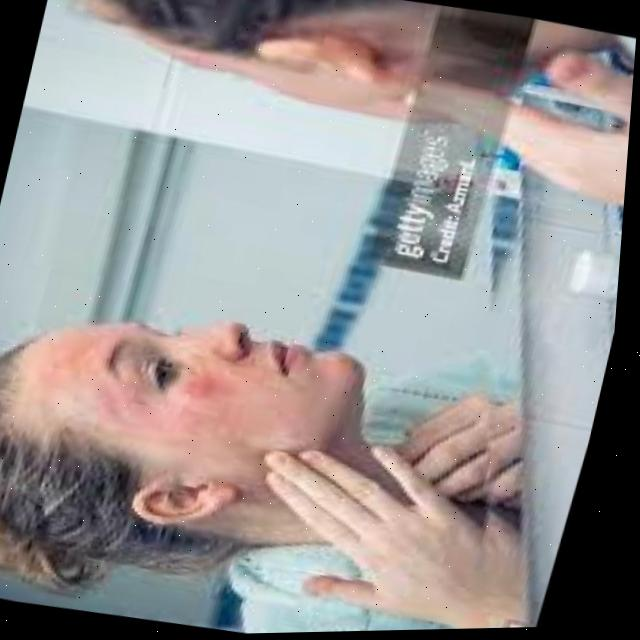Eczema: (71, 363, 252, 454)
